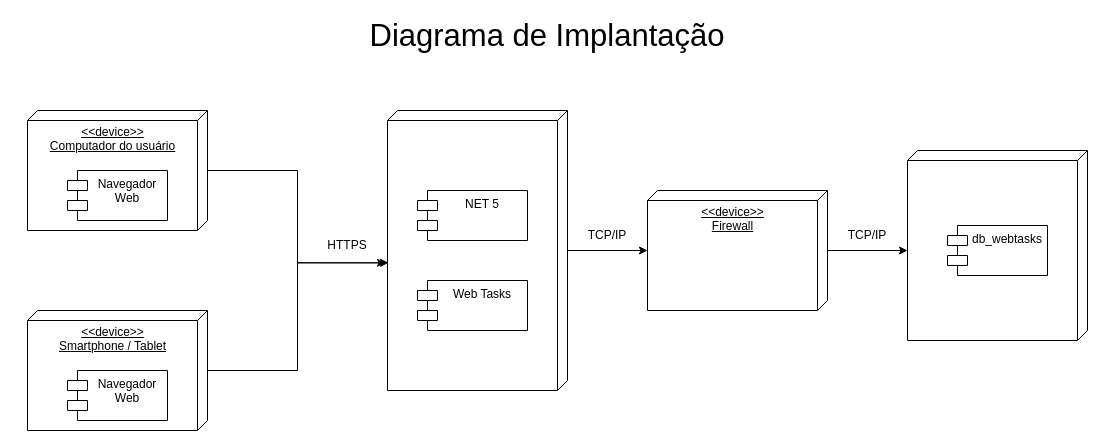
The diagram is 1105 pixels wide and 448 high, and some of its shapes have lost their labels. The box of each missing label's shape, as (x1, y1, x2, y2) in pixels:
<<device>> Azure App Service Linux Ubuntu: (386, 110, 568, 390)
<<device>> SQL Server Database: (906, 150, 1088, 340)
